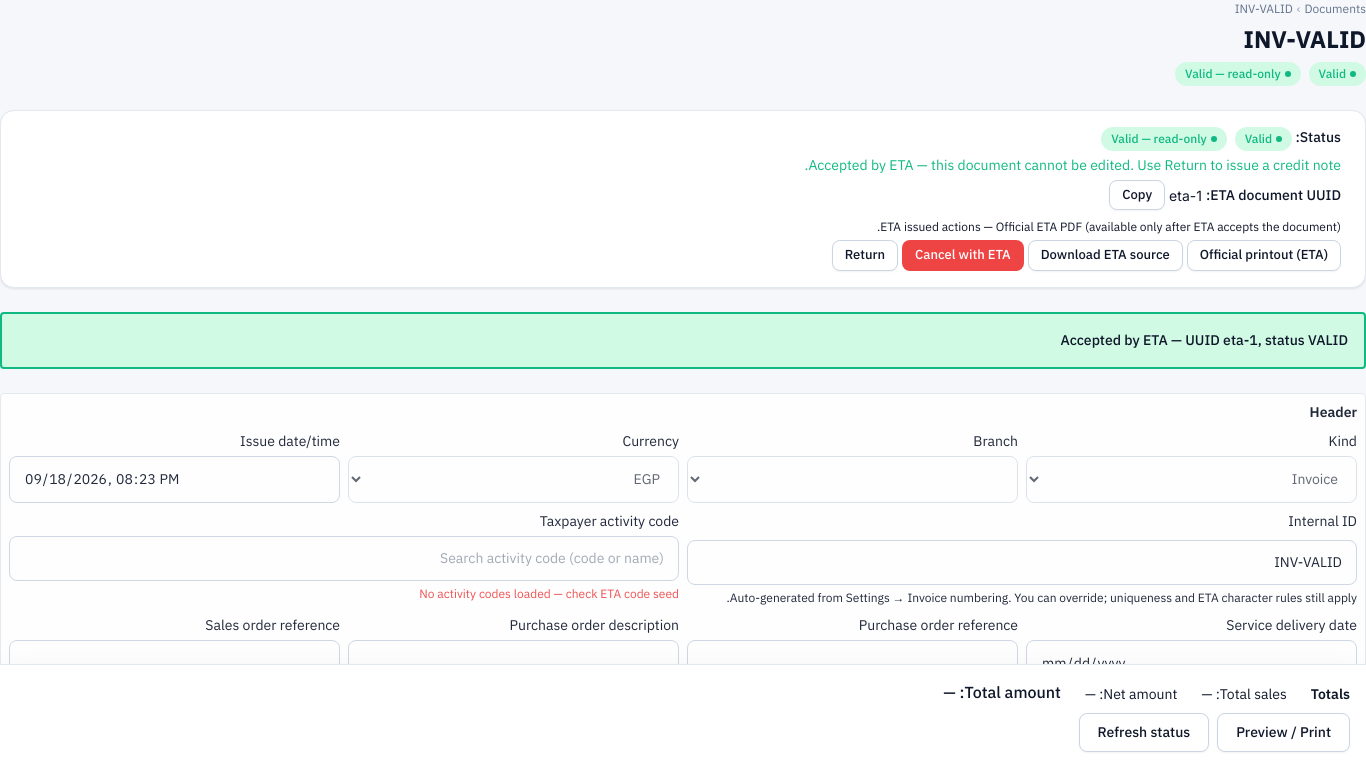
Test: document detail › opens the cancel-reason dialog instead of window.prompt
Click the button "Cancel with ETA".
click(963, 255)  # box x1=902 y1=240 x2=1024 y2=271
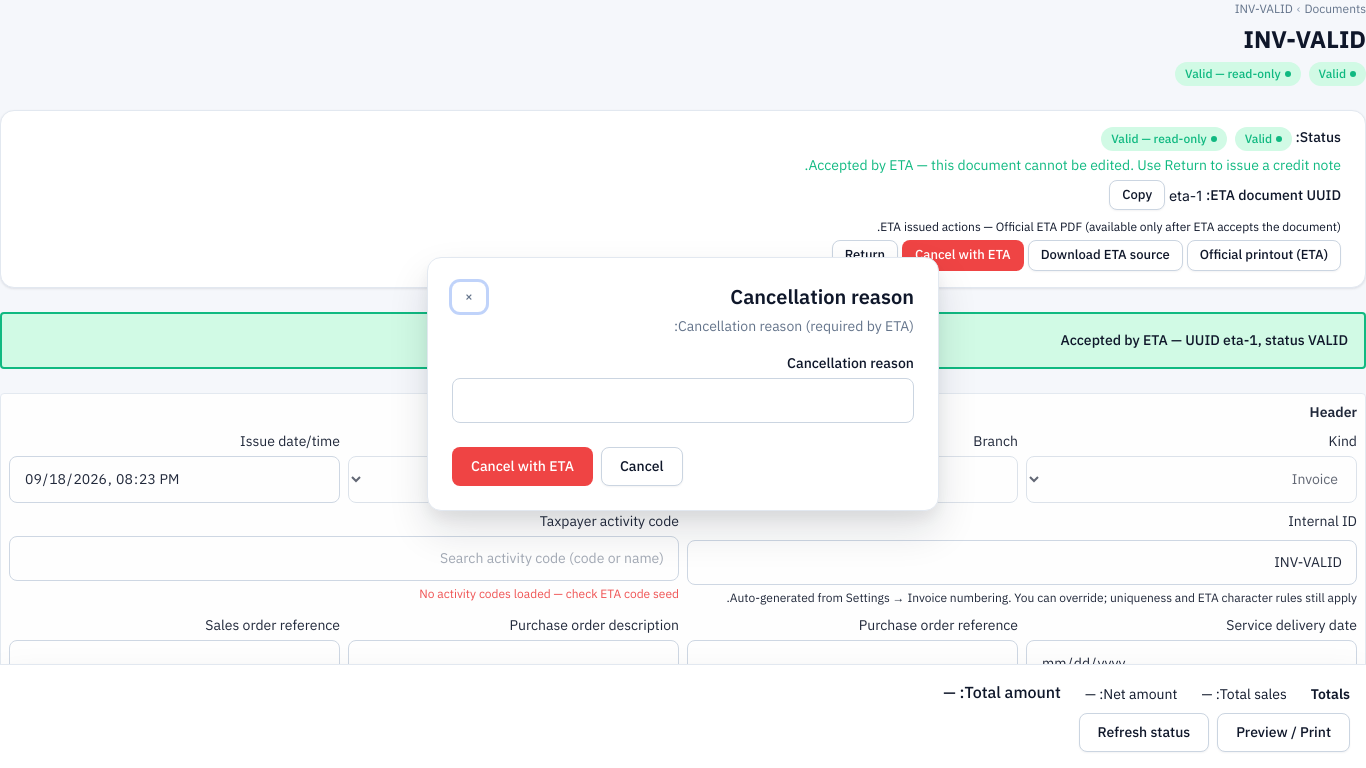
Result: the dialog is shown at x1=427 y1=257 x2=939 y2=511
